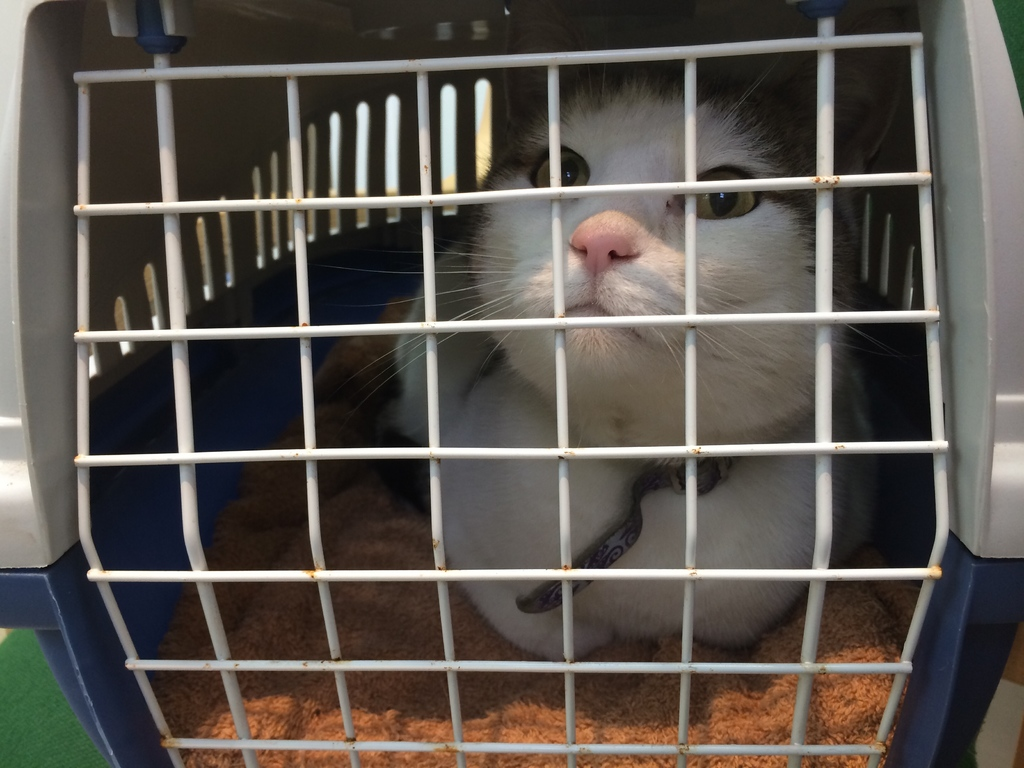Cat: (373, 45, 885, 666)
